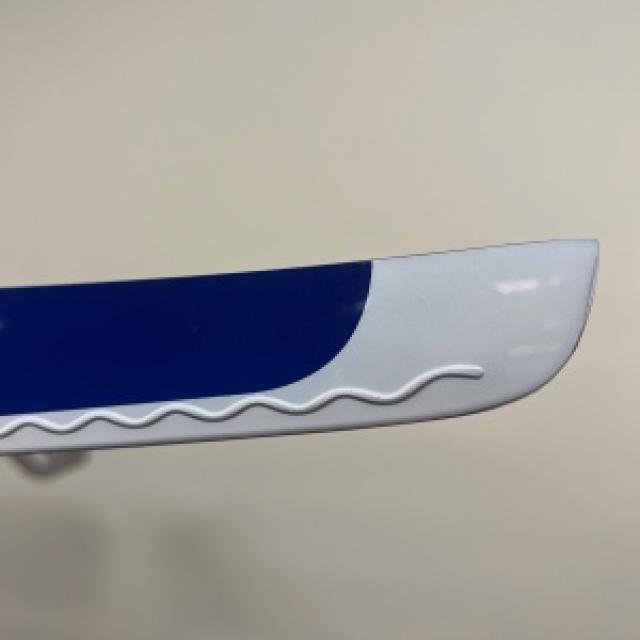healthy: (0, 237, 595, 452)
